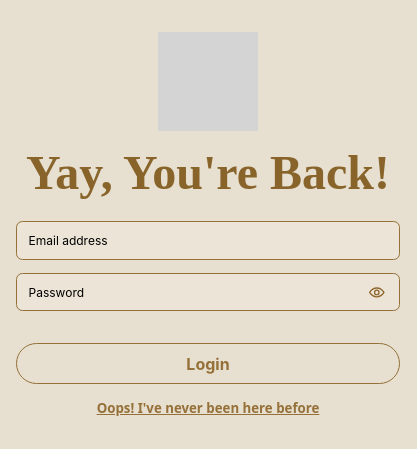
Test: login page › shows submit error message on login failure
Type "john@example.com" into the field labelled "Email address" at (208, 240), box [16,221,400,260]
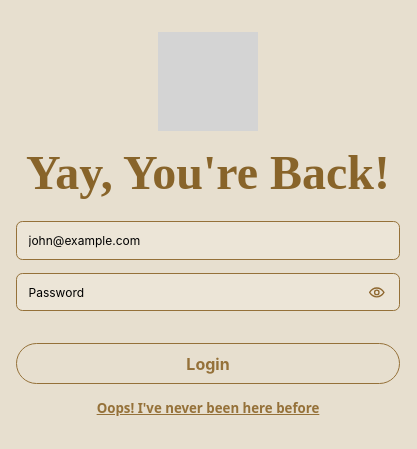
Type "bad" into the password field labelled "Password" at (208, 292), box [16,273,400,312]
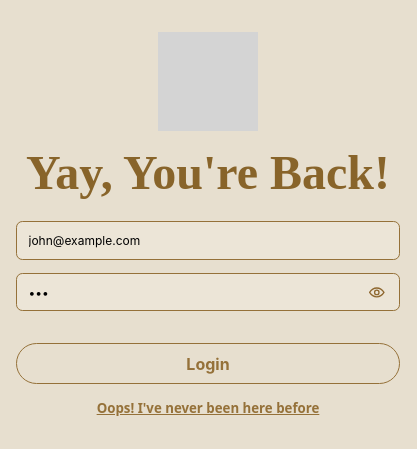
Click the button "Login" at (208, 364), box [16,343,400,384]
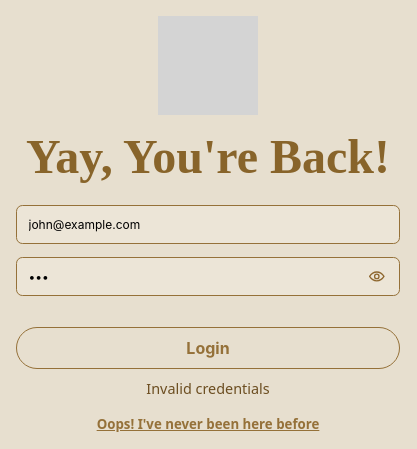
expect the text "Invalid credentials" is shown: met, box [146,379,270,398]
